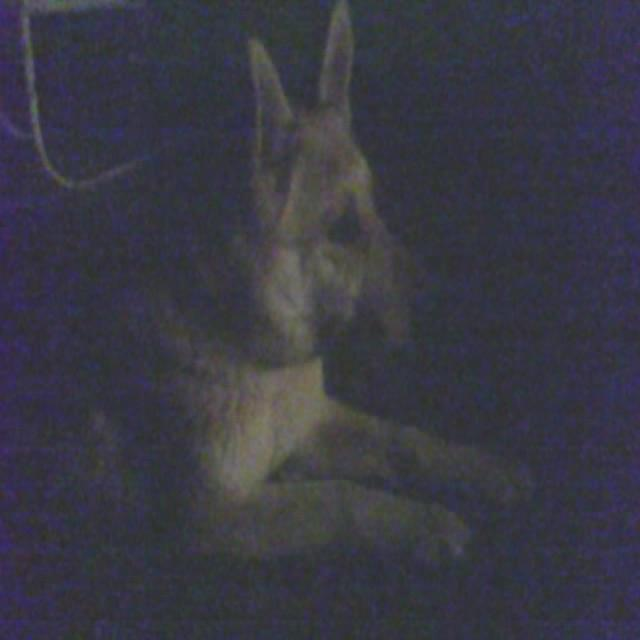Dog: (106, 61, 544, 634)
